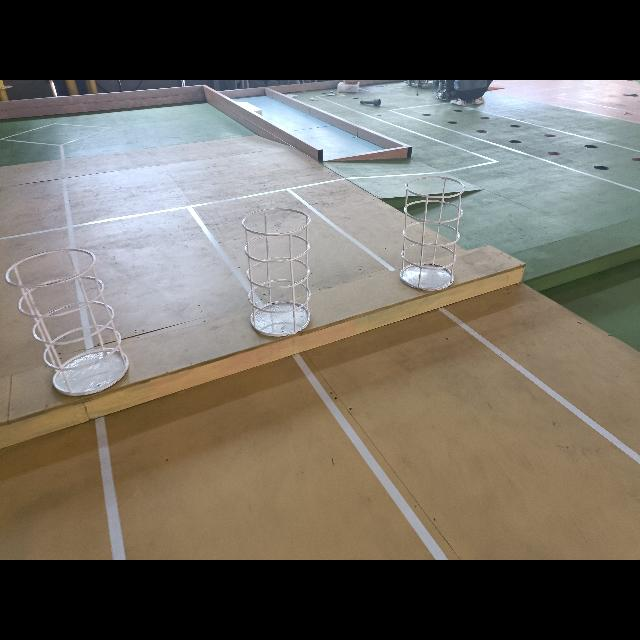S: (0, 244, 130, 402), (240, 207, 314, 339), (400, 175, 464, 293)
